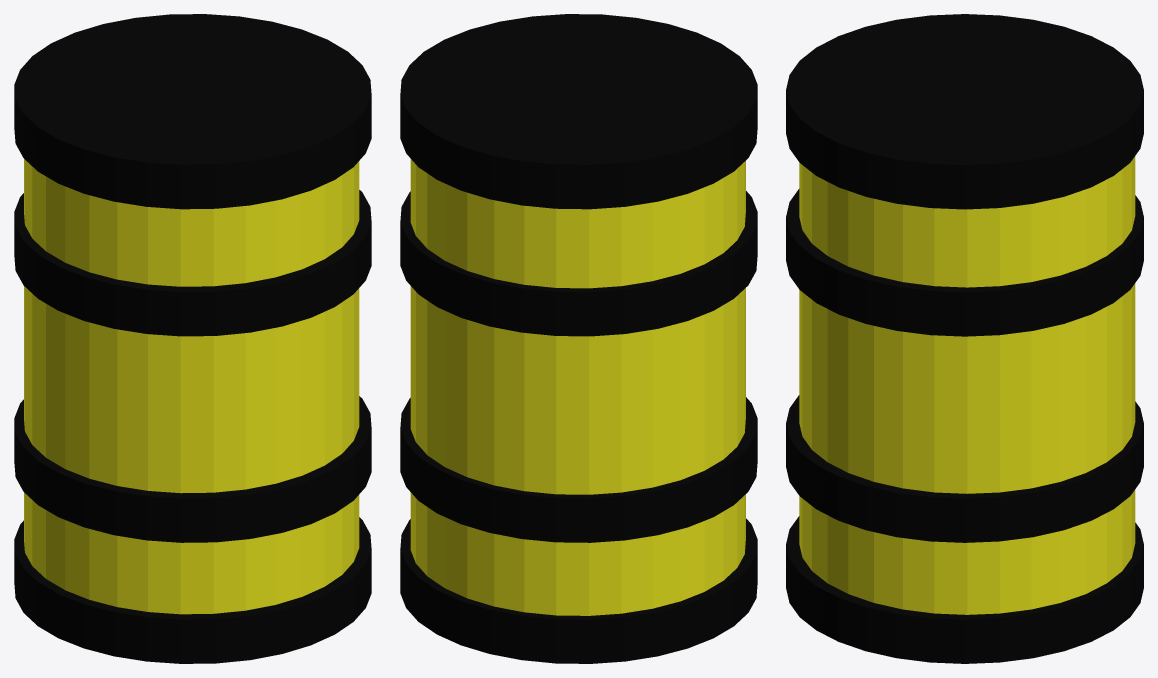
File: metalbarrel1.fbx
The picture shows the model from 3 angles, left to right: view 1: azimuth 30°, elevation 25°; view 2: azimuth 150°, elevation 25°; view 3: azimuth 270°, elevation 25°; orthographic projection.
Parts seen in each view (by area): view 1: Cylinder.018, Cylinder.019, Cylinder.021, Cylinder.022, Cylinder.020; view 2: Cylinder.018, Cylinder.019, Cylinder.022, Cylinder.021, Cylinder.020; view 3: Cylinder.018, Cylinder.019, Cylinder.021, Cylinder.020, Cylinder.022.
Boxes of the visible parts, x1,y1,x2,y2 form: Cylinder.018: (24, 159, 359, 614); Cylinder.019: (14, 14, 371, 209); Cylinder.021: (14, 190, 371, 336); Cylinder.022: (14, 396, 371, 542); Cylinder.020: (14, 517, 371, 663); Cylinder.018: (410, 159, 745, 615); Cylinder.019: (400, 14, 757, 209); Cylinder.022: (400, 397, 757, 542); Cylinder.021: (400, 191, 757, 336); Cylinder.020: (400, 518, 757, 663); Cylinder.018: (799, 156, 1135, 614); Cylinder.019: (786, 14, 1143, 209); Cylinder.021: (786, 189, 1143, 336); Cylinder.020: (786, 516, 1143, 663); Cylinder.022: (786, 395, 1143, 542).
Bounding box in the file's own units: 682 × 1050 × 682.
